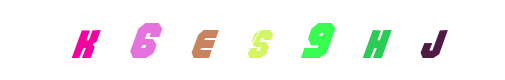6: (106, 0, 186, 80)
9: (229, 0, 309, 80)
E: (175, 0, 255, 80)
H: (302, 0, 382, 80)
J: (394, 0, 474, 80)
K: (46, 0, 126, 80)
S: (212, 0, 292, 80)
